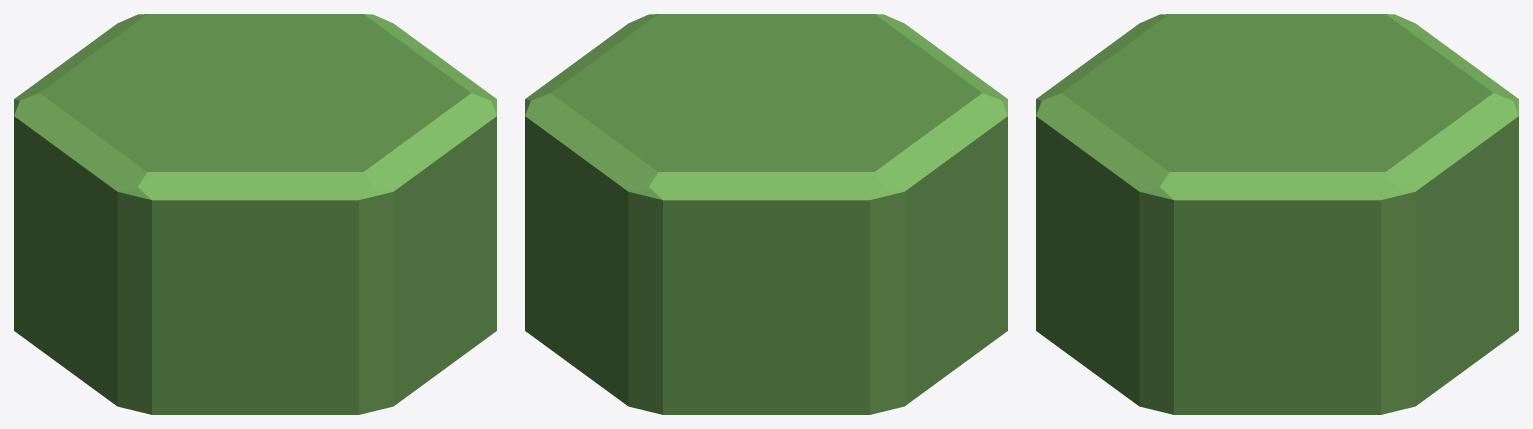
File: GrassTile.fbx
3 views of the same model, side by side, from view 1: azimuth 30°, elevation 25°; view 2: azimuth 150°, elevation 25°; view 3: azimuth 270°, elevation 25° (orthographic).
Parts seen in each view (by area): view 1: Cylinder; view 2: Cylinder; view 3: Cylinder.
Part boxes in pixels (x1=…): Cylinder: x1=14, y1=14, x2=496, y2=414; Cylinder: x1=525, y1=14, x2=1007, y2=414; Cylinder: x1=1036, y1=14, x2=1518, y2=414.
Size of the model in its own units: 173 by 100 by 191.
